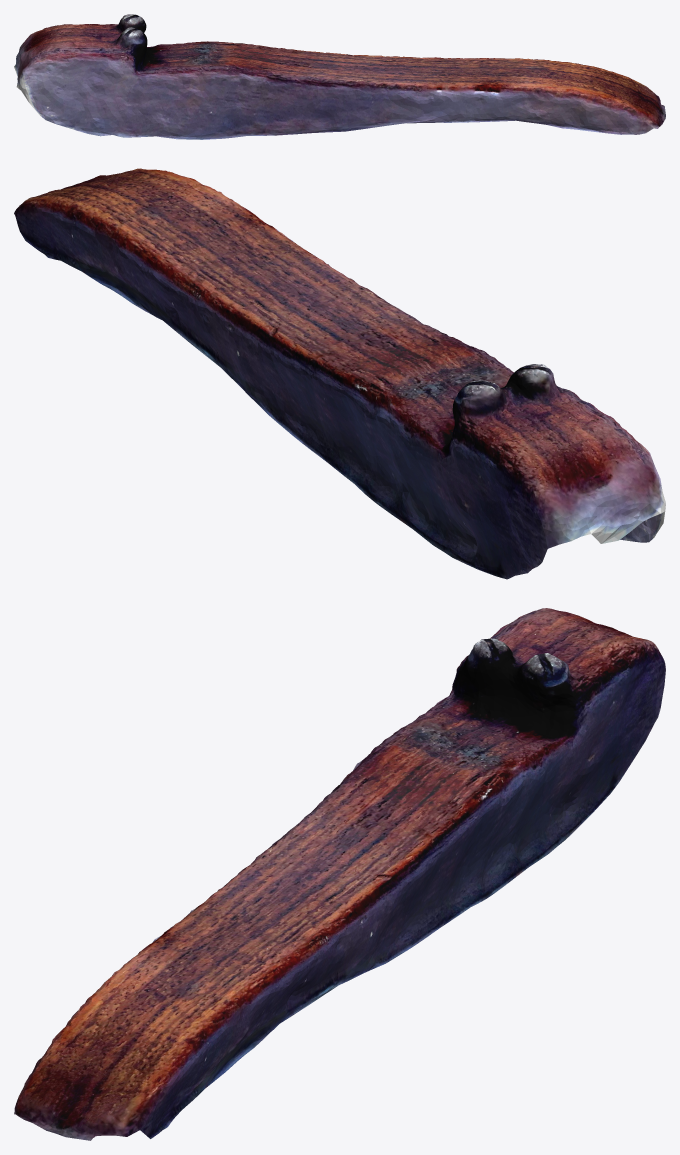
The model's file is 5_bottle_opener.gltf.
3 views of the same model, one above another, from view 1: azimuth 30°, elevation 25°; view 2: azimuth 150°, elevation 25°; view 3: azimuth 270°, elevation 25° (orthographic). The views are drawn at different scales.
Parts seen in each view (by area): view 1: model_New Qlone_20240218_155804154; view 2: model_New Qlone_20240218_155804154; view 3: model_New Qlone_20240218_155804154.
Part boxes in pixels (bbox=[...]): model_New Qlone_20240218_155804154: bbox=[14, 14, 665, 139]; model_New Qlone_20240218_155804154: bbox=[14, 168, 665, 579]; model_New Qlone_20240218_155804154: bbox=[14, 608, 665, 1140].
Bounding box in the file's own units: 1.91 × 0.3701 × 1.24.
Materials: 1 (1 with a texture image).
